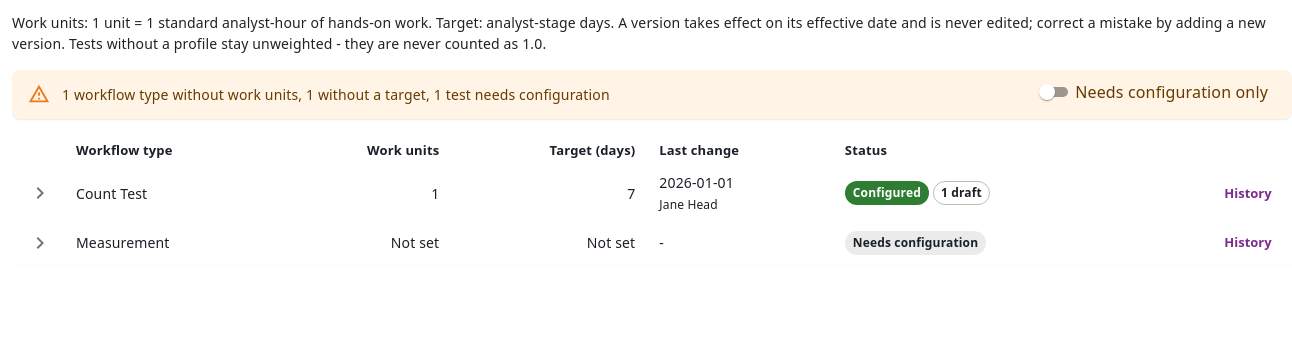
Test case: WorkflowProfilesPanel › expands a type to show its tests and flags overrides
Check: the text "Count Test" is shown, box left=64, top=166, right=279, bottom=221
Click the button named "Show tests for Count Test" at (40, 193), box left=28, top=181, right=52, bottom=205
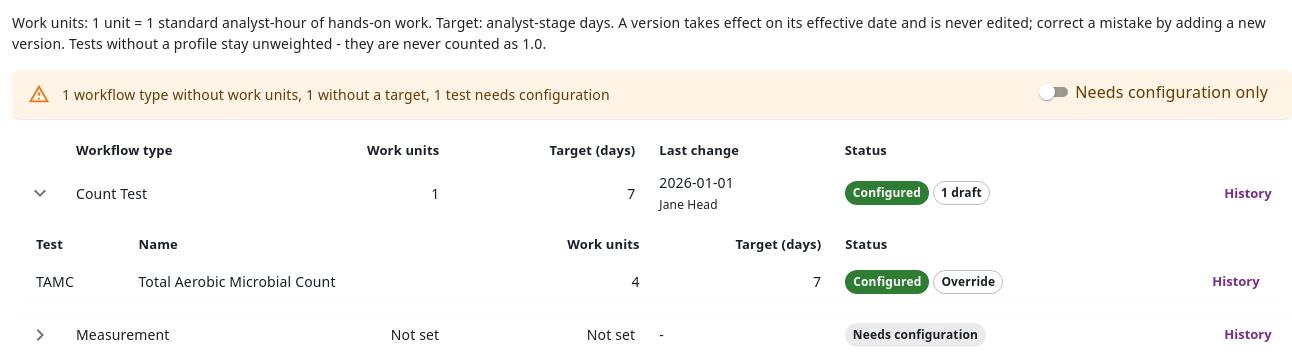
Check: the text "TAMC" is shown, box left=24, top=260, right=126, bottom=304
Check: the text "Override" is shown, box left=941, top=273, right=995, bottom=290
